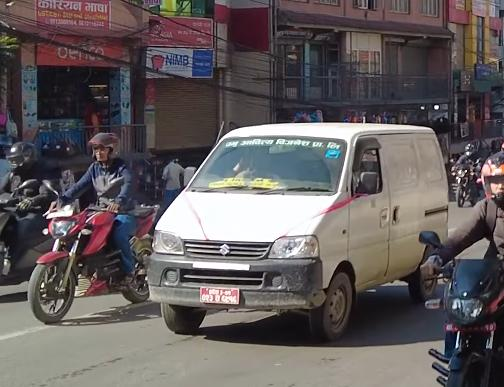bike: (29, 179, 158, 319), (413, 223, 504, 387), (451, 159, 476, 207)
van: (142, 111, 453, 344)
